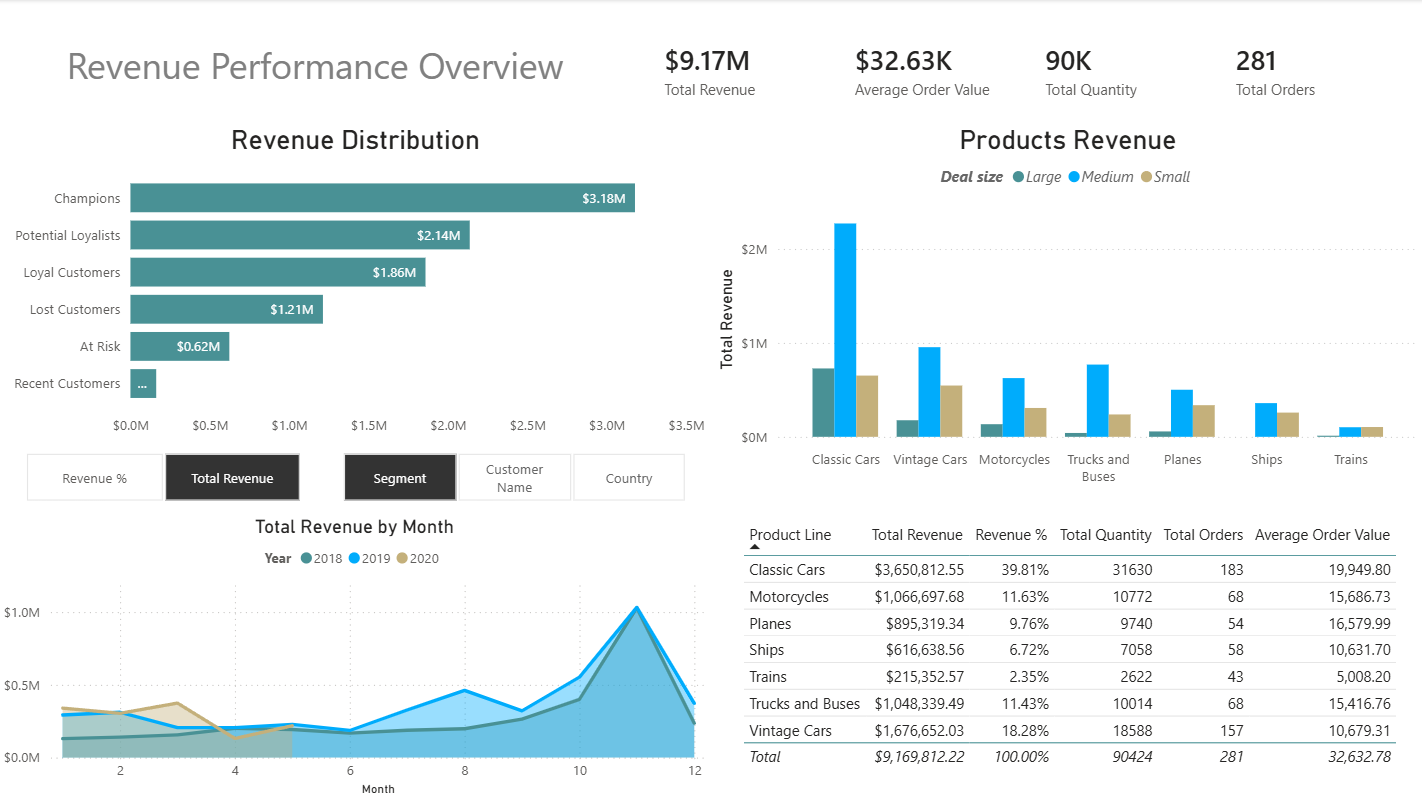

What the dashboard file says about the page in this screenshot:
{"tool":"powerbi","page":{"name":"Dashboard","canvas":[1280,720],"ordinal":0},"visuals":[{"type":"barChart","title":"Revenue Distribution","fields":{"Category":["public rfm_segments.segment"],"Y":["_Measures.Total Revenue"]},"box":[0.9,112.2,640.1,289.1],"z":0},{"type":"slicer","fields":{"Values":["Select Category.Select Category"]},"box":[284.6,401.3,356.4,55.7],"z":1000},{"type":"slicer","fields":{"Values":["Select Type.Select Type"]},"box":[0,401.3,295.4,55.7],"z":2000},{"type":"lineChart","title":"Total Revenue by Month","fields":{"Category":["warehouse dim_date.month"],"Series":["warehouse dim_date.year"],"Y":["_Measures.Total Revenue"]},"box":[0,463.2,640.1,256.8],"z":3000},{"type":"clusteredColumnChart","title":"Products Revenue","fields":{"Category":["warehouse dim_product.productline"],"Series":["warehouse fact_sales.dealsize"],"Y":["_Measures.Total Revenue"]},"box":[641,112.2,639.2,332.2],"z":4000},{"type":"tableEx","fields":{"Values":["warehouse dim_product.productline","_Measures.Total Revenue","_Measures.Revenue Share % ProductLine","_Measures.Total Quantity","_Measures.Total Orders","_Measures.Average Order Value"]},"box":[663.3,463,616.7,256.8],"z":5000},{"type":"cardVisual","fields":{"Data":["_Measures.Total Revenue","_Measures.Average Order Value","_Measures.Total Quantity","_Measures.Total Orders"]},"box":[569.2,0,711,127.5],"z":6000},{"type":"textbox","box":[0,31.4,569.2,64.6],"z":7000}]}

Visuals, with their boxes in screenshot pixels (x1, y1, x2, y2), scaled from the page's 1280x720 canvas onto the 1422x799 screenshot:
"Revenue Distribution" barChart: <box>1,125,712,445</box>
slicer - Select Category.Select Category: <box>316,445,712,507</box>
slicer - Select Type.Select Type: <box>0,445,328,507</box>
"Total Revenue by Month" lineChart: <box>0,514,711,798</box>
"Products Revenue" clusteredColumnChart: <box>712,125,1421,493</box>
tableEx - warehouse dim_product.productline x _Measures.Total Revenue: <box>737,514,1421,798</box>
cardVisual - _Measures.Total Revenue x _Measures.Average Order Value: <box>632,0,1421,141</box>
textbox: <box>0,35,632,107</box>
